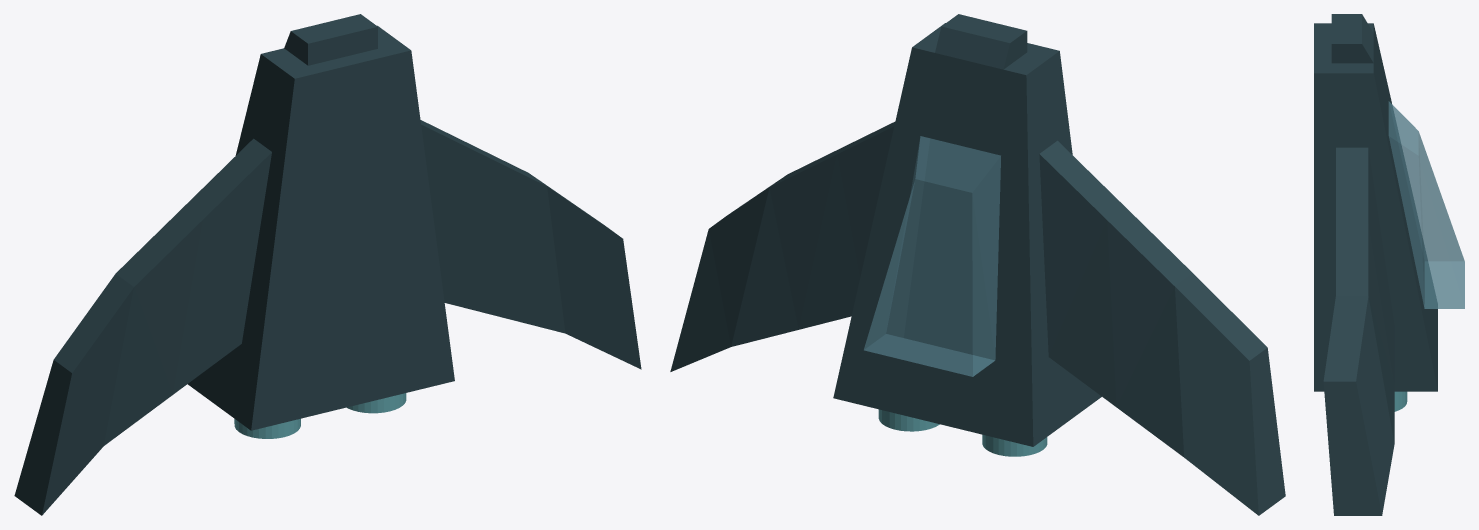
Rendered from spaceship_lowpoly.dae.
3 renders of one model, left to right at view 1: azimuth 30°, elevation 25°; view 2: azimuth 150°, elevation 25°; view 3: azimuth 270°, elevation 25°, orthographic. The views are drawn at different scales.
Visible parts, largest first — view 1: body, burner_right; view 2: body, burner_right, burner_left; view 3: body, burner_left.
Part boxes in pixels (bbox=[...]): body: bbox=[14, 14, 641, 515]; burner_right: bbox=[234, 418, 300, 438]; body: bbox=[670, 14, 1285, 515]; burner_right: bbox=[982, 434, 1047, 456]; burner_left: bbox=[878, 409, 939, 431]; body: bbox=[1314, 14, 1464, 515]; burner_left: bbox=[1394, 391, 1407, 411].
Size of the model in its own units: 14.71 by 3.65 by 9.58.
